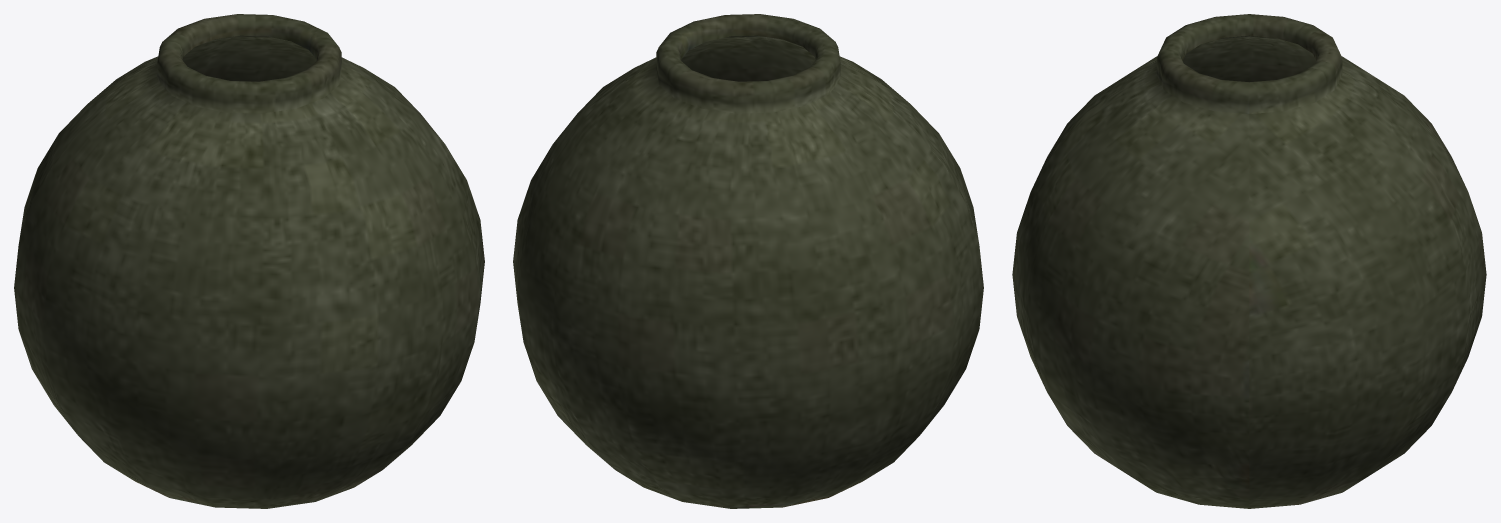
File: round_pot.gltf
The picture shows the model from 3 angles, left to right: view 1: azimuth 30°, elevation 25°; view 2: azimuth 150°, elevation 25°; view 3: azimuth 270°, elevation 25°; orthographic projection.
Parts seen in each view (by area): view 1: Pottery_1; view 2: Pottery_1; view 3: Pottery_1.
Boxes of the visible parts, <box> form: Pottery_1: <box>14,14,484,508</box>; Pottery_1: <box>513,14,983,508</box>; Pottery_1: <box>1012,14,1486,508</box>.
Size of the model in its own units: 0.2391 by 0.2244 by 0.2391.
1 material, 1 textured.
